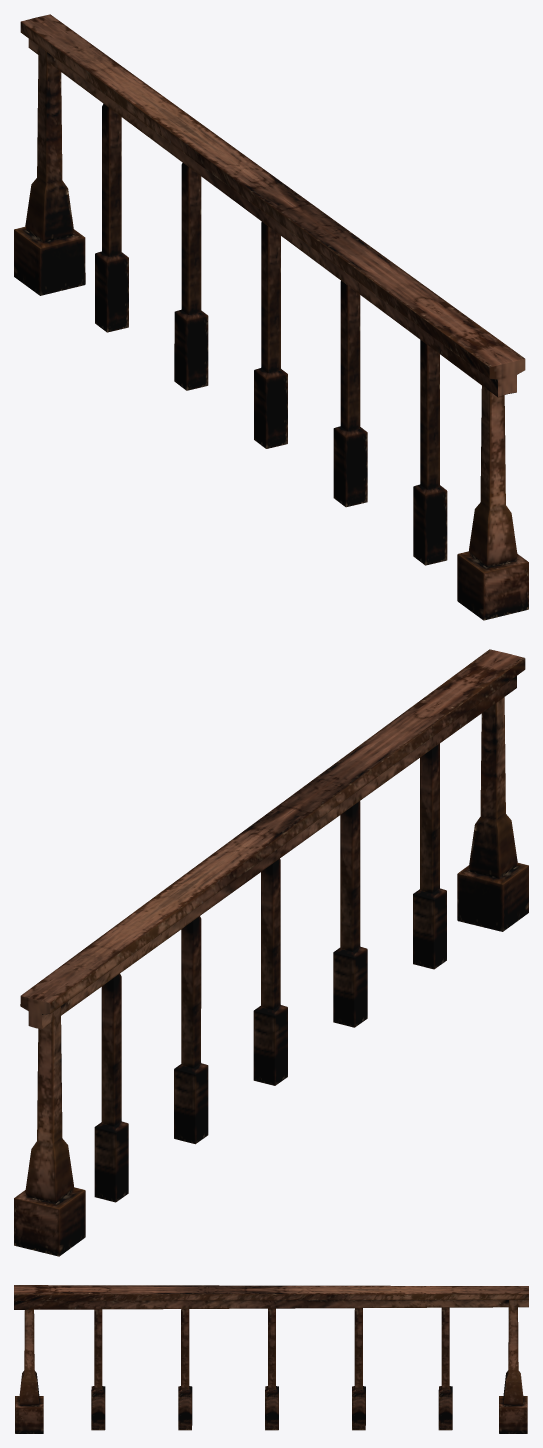
File: Railing_A.fbx
3 views of the same model, one above another, from view 1: azimuth 30°, elevation 25°; view 2: azimuth 150°, elevation 25°; view 3: azimuth 270°, elevation 25° (orthographic). The views are drawn at different scales.
Parts seen in each view (by area): view 1: Railing_A, WallTrim_Bot.016; view 2: Railing_A, WallTrim_Bot.016; view 3: Railing_A, WallTrim_Bot.016.
Boxes of the visible parts, x1,y1,x2,y2 form: Railing_A: [20, 14, 525, 565]; WallTrim_Bot.016: [14, 46, 528, 620]; Railing_A: [20, 649, 525, 1202]; WallTrim_Bot.016: [14, 697, 528, 1256]; Railing_A: [14, 1285, 528, 1430]; WallTrim_Bot.016: [15, 1300, 527, 1433].
Size of the model in its own units: 0.2 by 3.59 by 1.06.
Materials: 1 (1 with a texture image).
